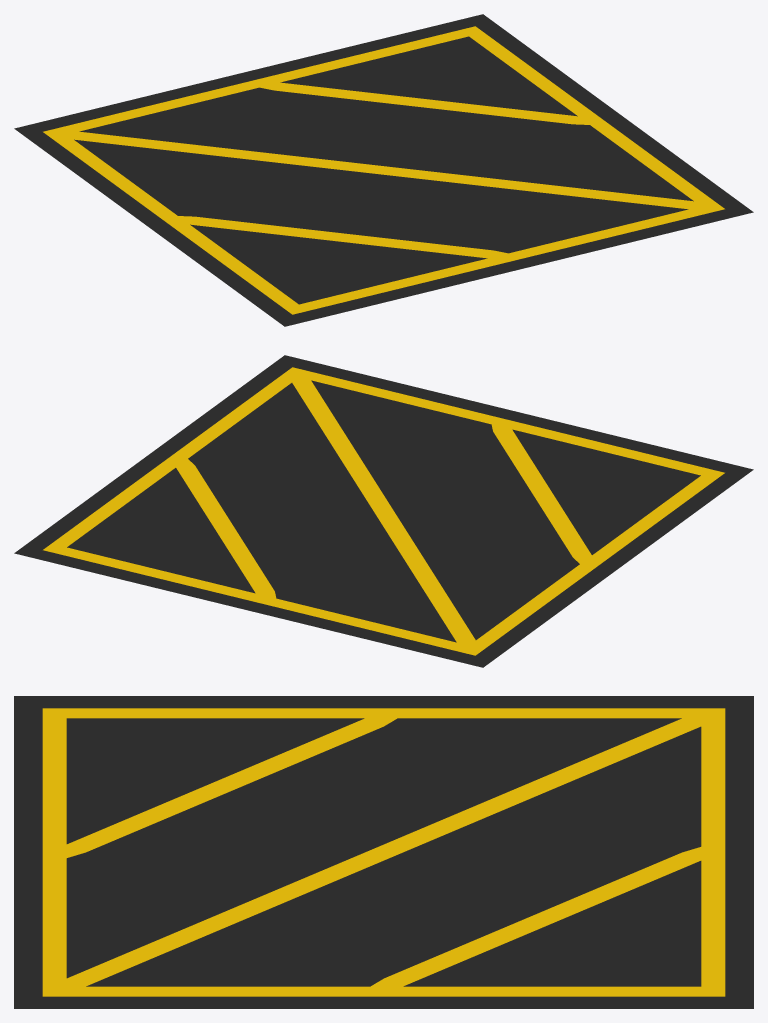
File: Road_05.fbx
3 views of the same model, one above another, from view 1: azimuth 30°, elevation 25°; view 2: azimuth 150°, elevation 25°; view 3: azimuth 270°, elevation 25° (orthographic). The views are drawn at different scales.
Parts seen in each view (by area): view 1: Road_5; view 2: Road_5; view 3: Road_5.
Part boxes in pixels (left/top/right/bottom): Road_5: left=14, top=14, right=753, bottom=326; Road_5: left=14, top=355, right=753, bottom=667; Road_5: left=14, top=696, right=753, bottom=1008.
Bounding box in the file's own units: 1000 × 0 × 1000.
